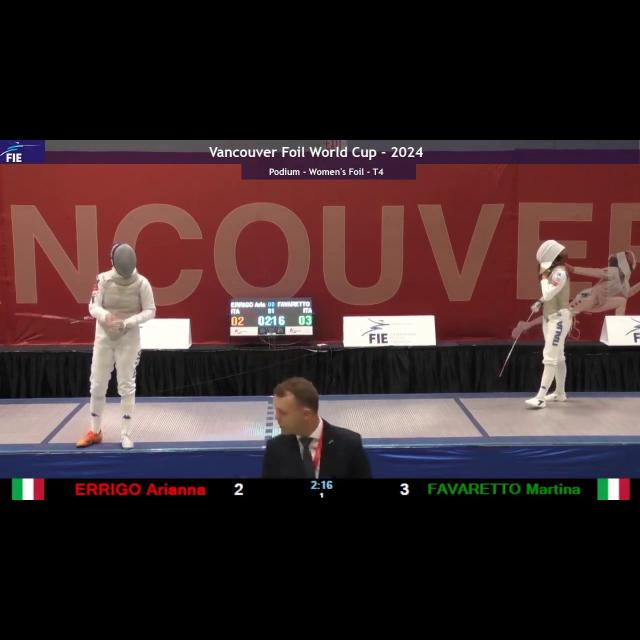blade: (499, 303, 541, 379)
